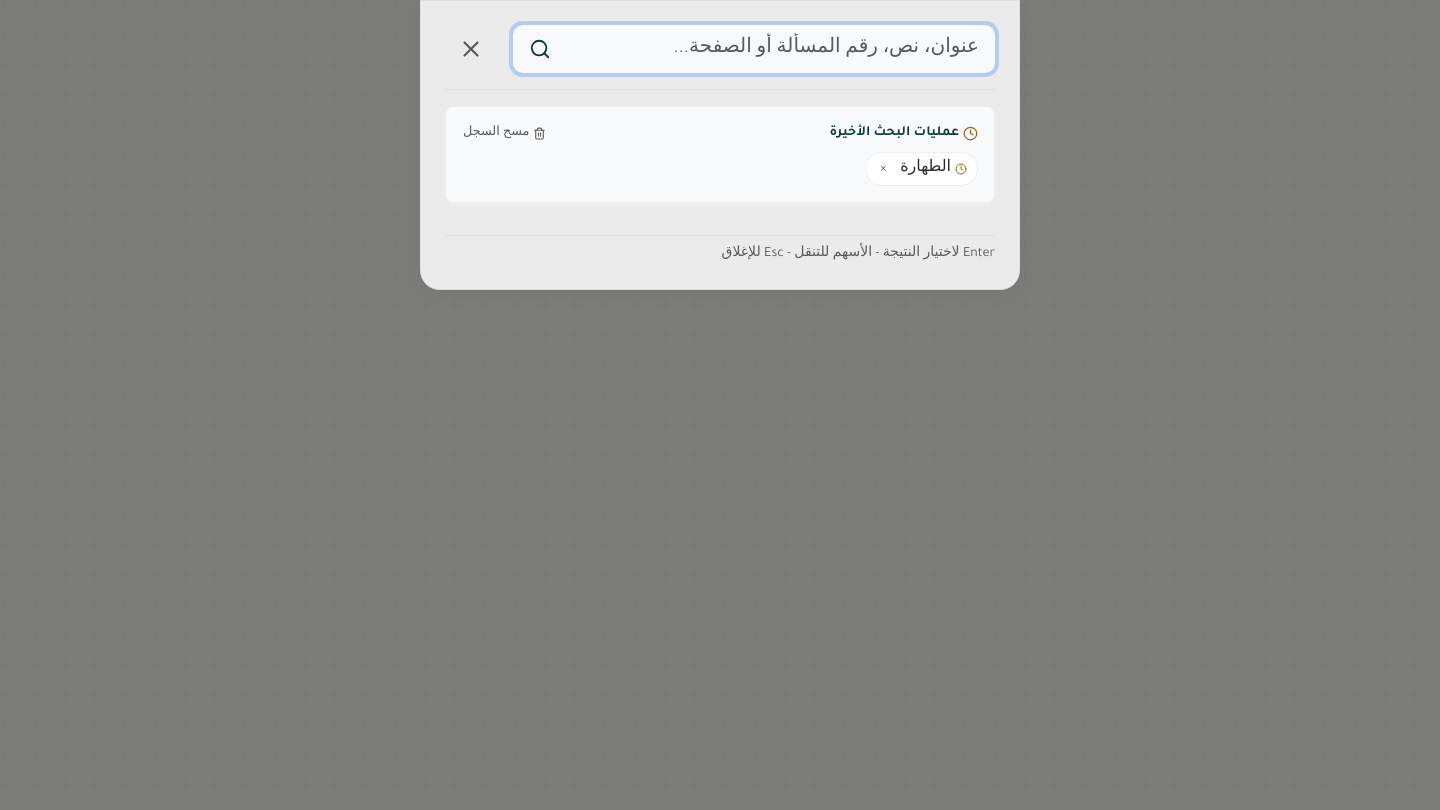
Test case: SearchModal Component › النقر على عنصر من السجل يملأ حقل البحث
Click the button named "البحث عن \"الطهارة\"" at coordinates (934, 169), box [900,157,967,181]
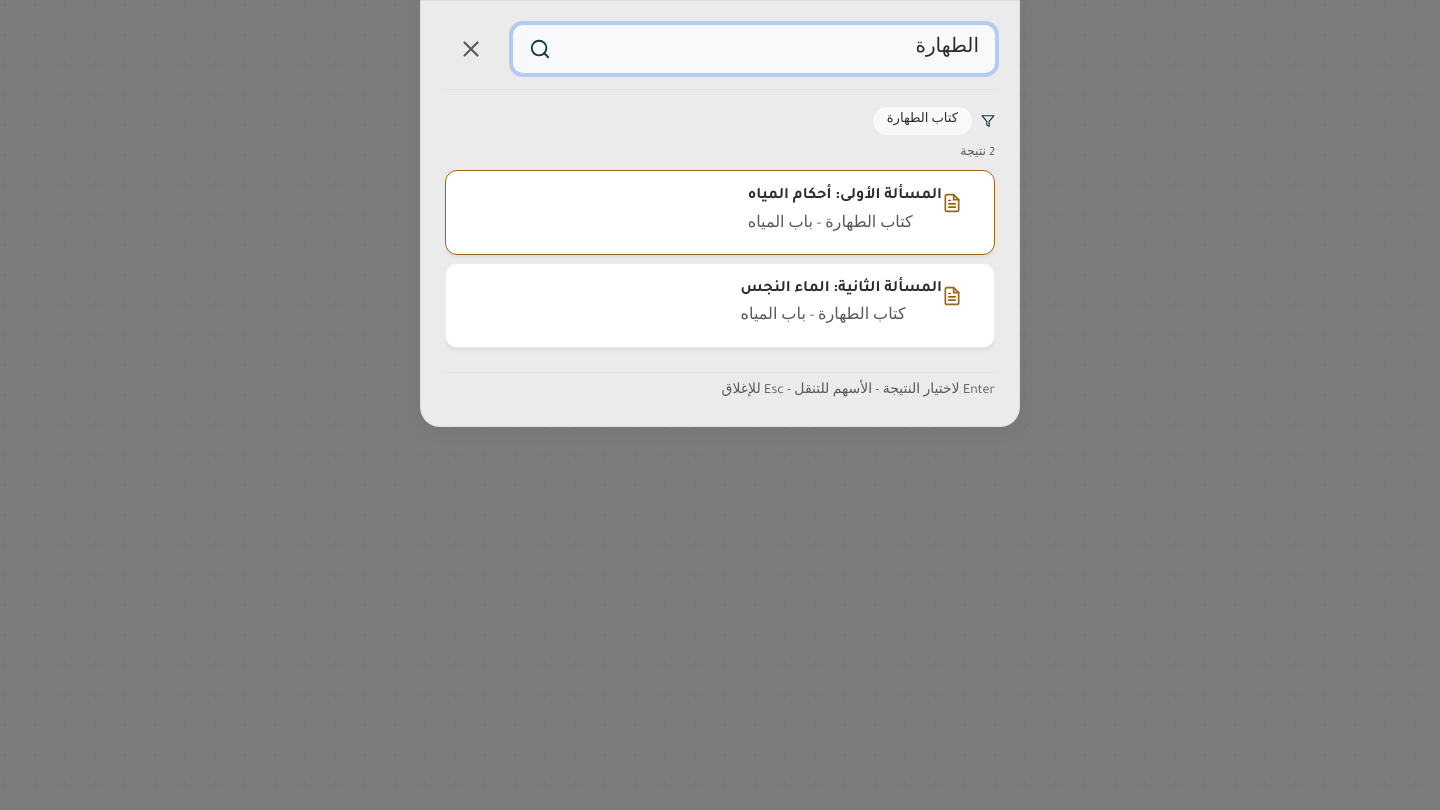
Result: the field with placeholder "عنوان، نص، رقم المسألة أو الصفحة..." holds "الطهارة" at [513,25,995,73]
